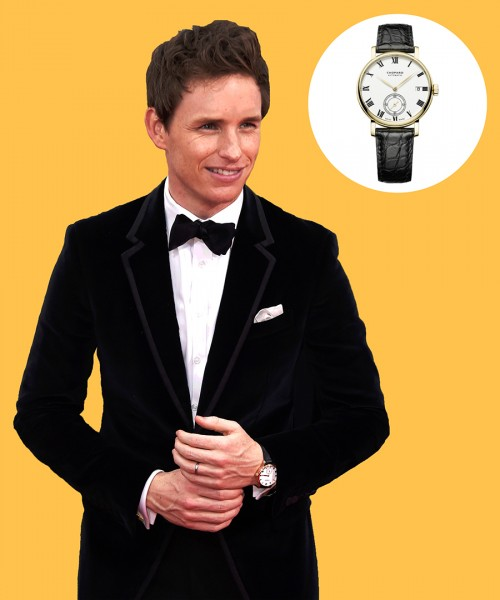clock: (360, 52, 432, 128)
